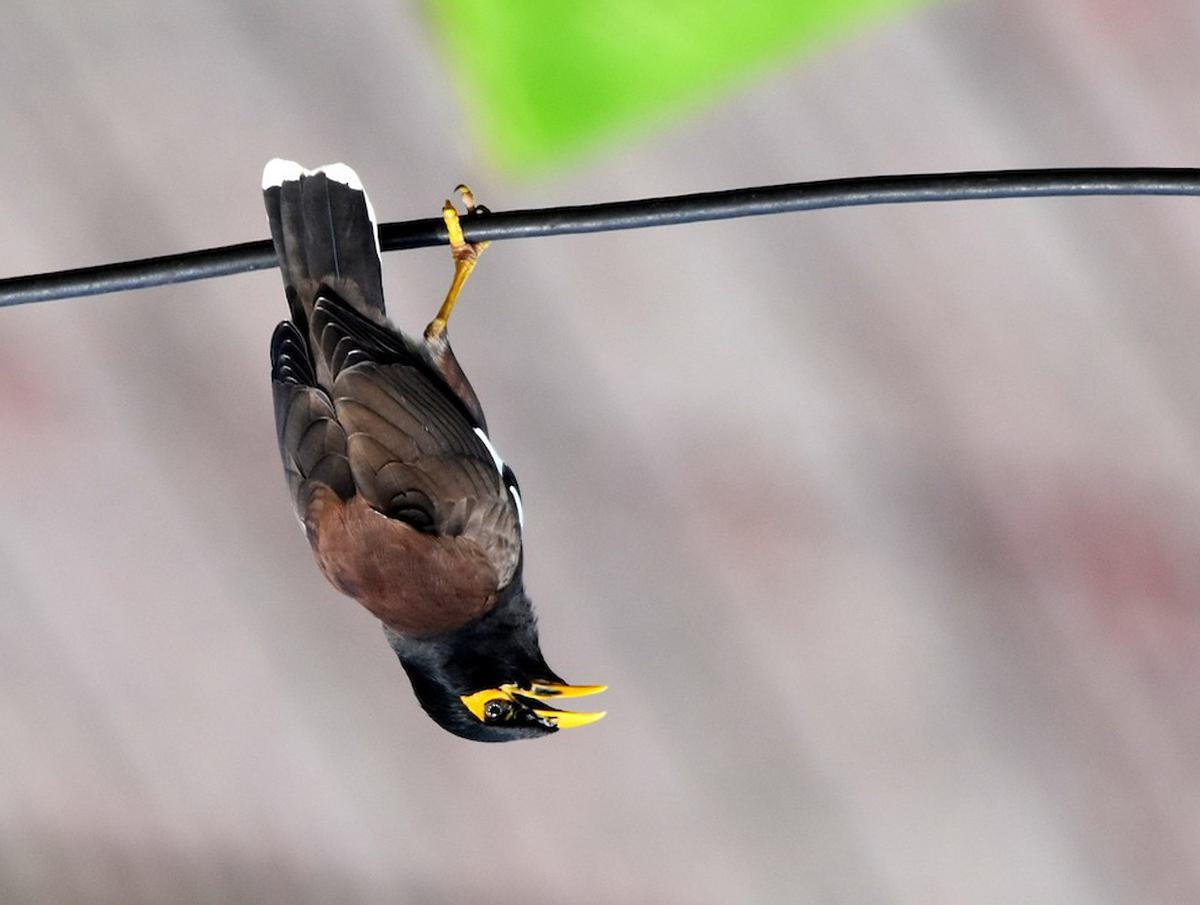myna: (259, 127, 633, 748)
